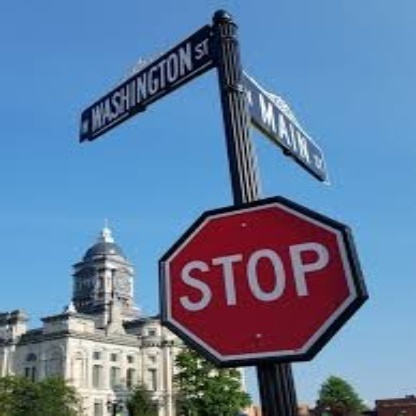stop: (158, 193, 369, 367)
